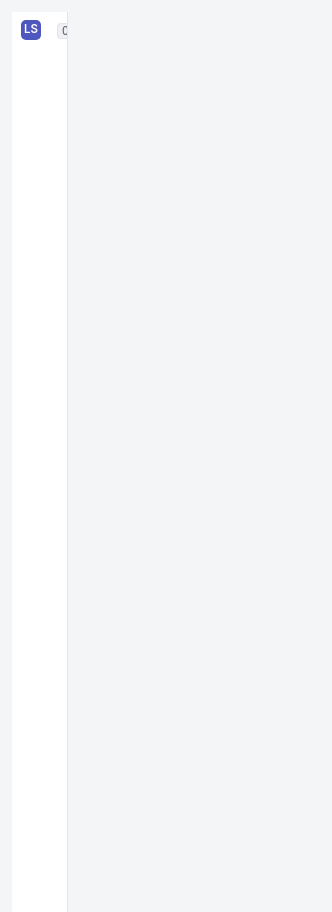
Scenario: arrow navigation, selection and Escape preserve keyboard focus
Press Enter in the button "LS O", box left=12, top=12, right=67, bottom=48
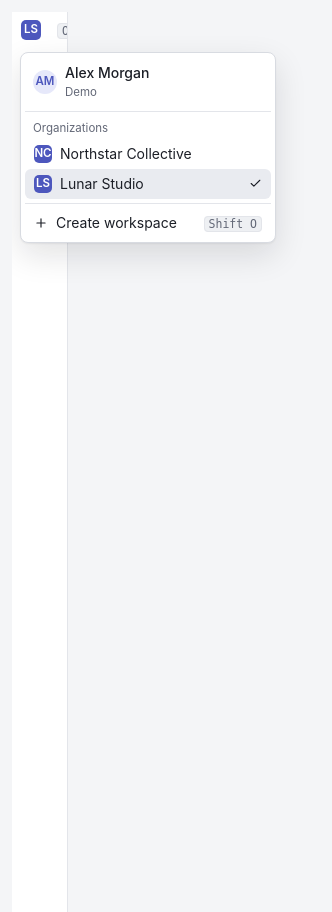
Press ArrowUp in the menu item "LS Lunar Studio", box left=25, top=169, right=271, bottom=199
Press Escape in the menu item "NC Northstar Collective", box left=25, top=139, right=271, bottom=169
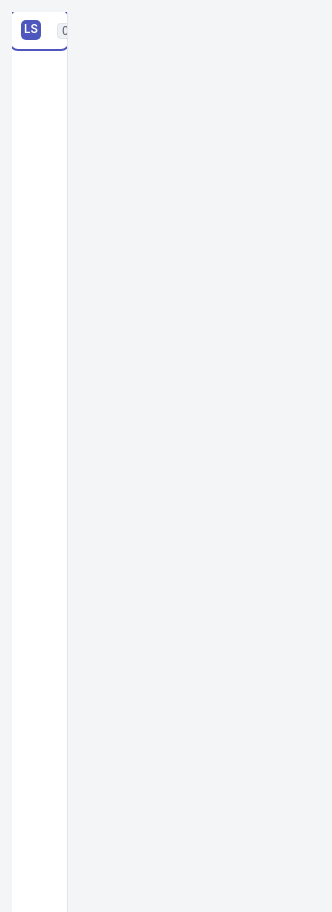
Check: the menu is gone
Press Enter in the button "LS O", box left=12, top=12, right=67, bottom=48
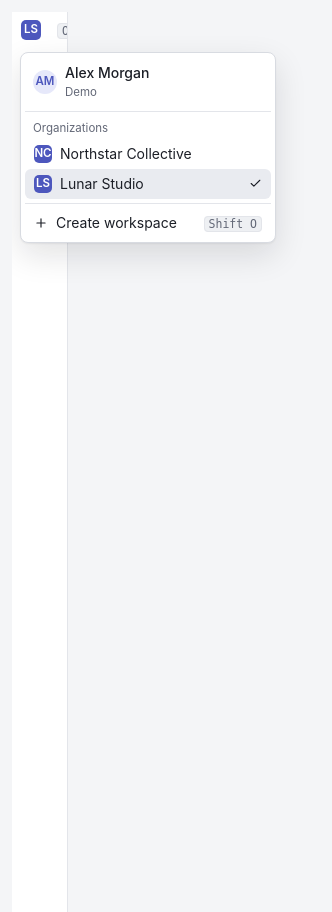
Click the menu item "NC Northstar Collective" at (113, 154), box left=34, top=145, right=192, bottom=163
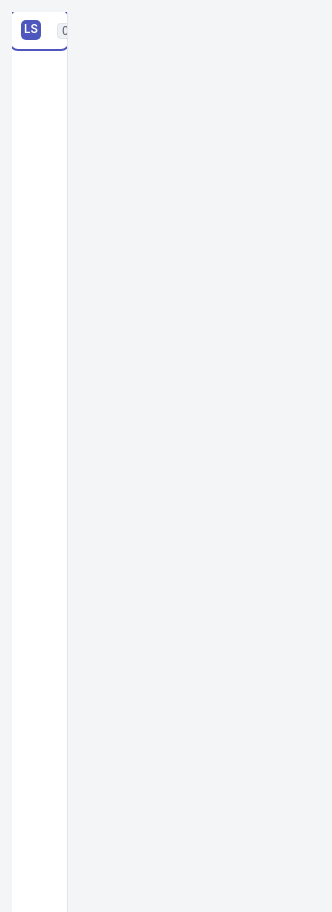
Check: the menu is gone
